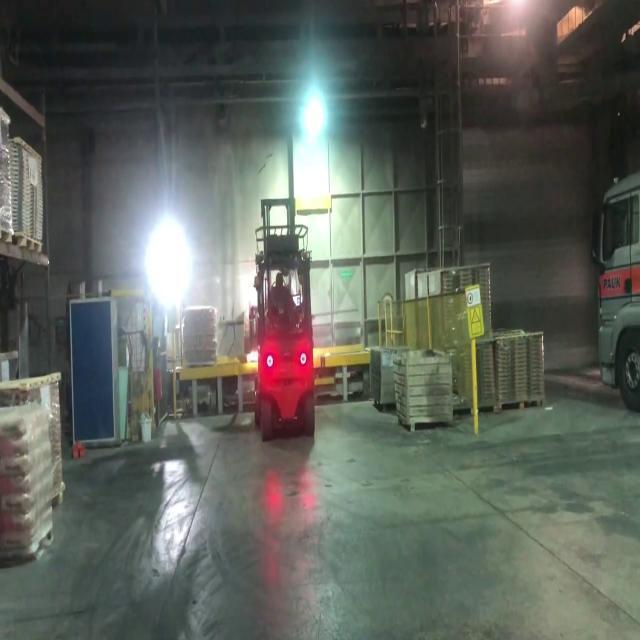forklift: (254, 244, 314, 434)
